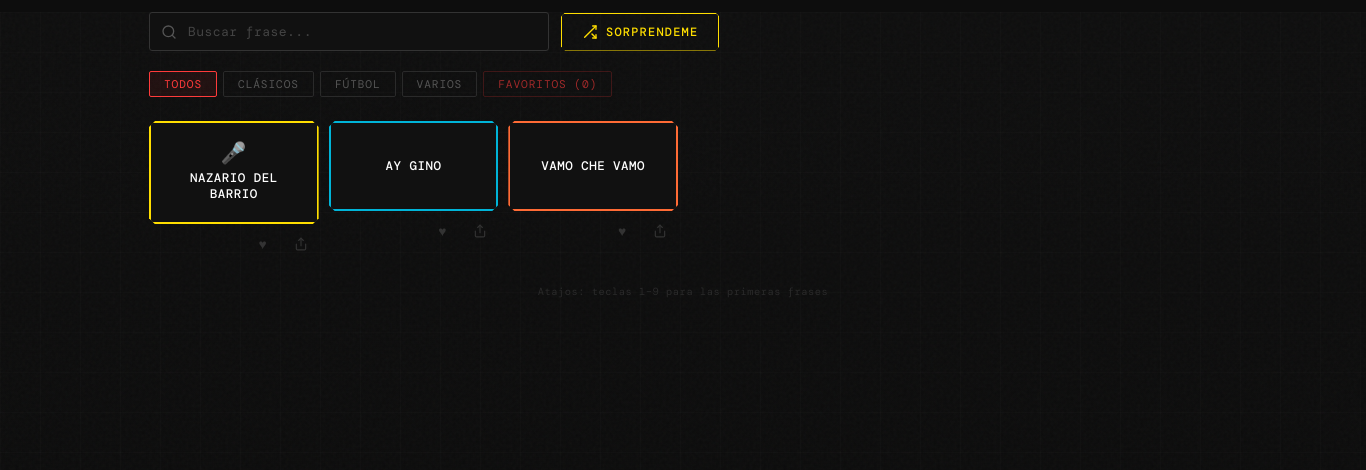
Test: Soundboard › tab de favoritos muestra mensaje cuando no hay favoritos
This screenshot has width=1366, height=470.
Click the tab "Favoritos (0)" at (548, 84), box [483,71,612,97]
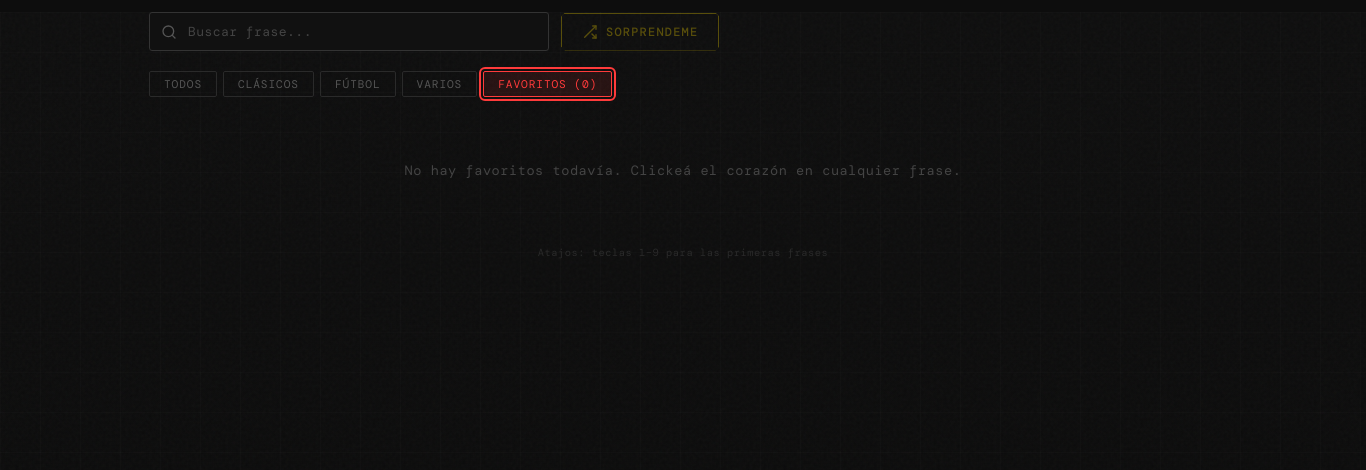
expect the text "No hay favoritos todavía" is shown: met, box [405,162,961,179]
